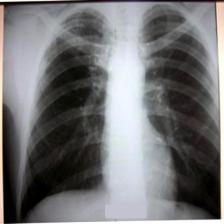tuberculosis: (12, 0, 222, 224)
